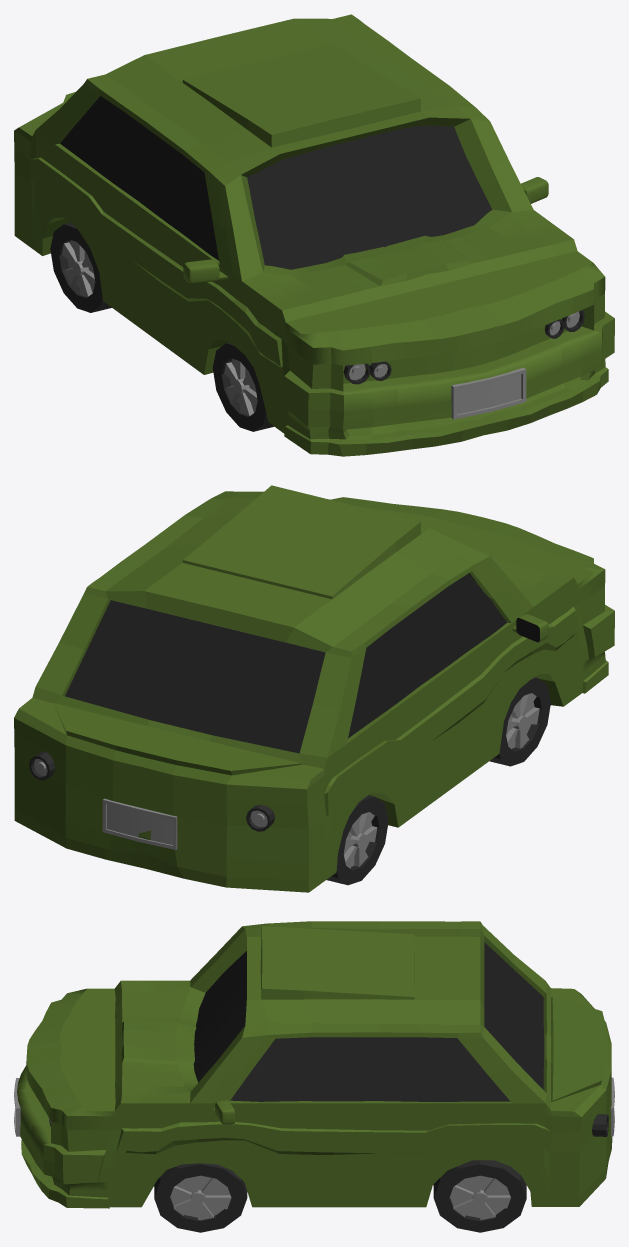
Rendered from car_1 1.fbx.
The picture shows the model from 3 angles, top to bottom: view 1: azimuth 30°, elevation 25°; view 2: azimuth 150°, elevation 25°; view 3: azimuth 270°, elevation 25°; orthographic projection. The views are drawn at different scales.
Visible parts, largest first — view 1: car_base, glass_front, glass_right, pPipe5 (×2), front_plate, pCylinder12 (×2), mirror, lamp_big, lamp_small; view 2: car_base, glass_behind, glass_right, pPipe5 (×2), back_plate, pCylinder12 (×2), lamp_big1, mirror; view 3: car_base, glass_left, pPipe5 (×2), glass_behind, glass_front, pCylinder12 (×2).
Part boxes in pixels (x1=…): car_base: x1=14, y1=14, x2=614, y2=456; glass_front: x1=247, y1=125, x2=491, y2=269; glass_right: x1=60, y1=96, x2=218, y2=260; pPipe5 (×2): x1=50, y1=222, x2=273, y2=431; front_plate: x1=451, y1=367, x2=526, y2=419; pCylinder12 (×2): x1=61, y1=240, x2=257, y2=415; mirror: x1=183, y1=177, x2=548, y2=283; lamp_big: x1=343, y1=310, x2=584, y2=384; lamp_small: x1=369, y1=319, x2=564, y2=380; car_base: x1=14, y1=485, x2=614, y2=892; glass_behind: x1=65, y1=600, x2=325, y2=753; glass_right: x1=348, y1=574, x2=506, y2=738; pPipe5 (×2): x1=326, y1=677, x2=550, y2=885; back_plate: x1=102, y1=798, x2=177, y2=849; pCylinder12 (×2): x1=343, y1=693, x2=539, y2=868; lamp_big1: x1=29, y1=751, x2=275, y2=831; mirror: x1=512, y1=614, x2=548, y2=642; car_base: x1=17, y1=921, x2=612, y2=1208; glass_left: x1=230, y1=1037, x2=510, y2=1101; pPipe5 (×2): x1=154, y1=1160, x2=526, y2=1232; glass_behind: x1=484, y1=942, x2=544, y2=1089; glass_front: x1=193, y1=951, x2=246, y2=1082; pCylinder12 (×2): x1=170, y1=1175, x2=510, y2=1220.
Bounding box in the file's own units: 163 × 108 × 274.
